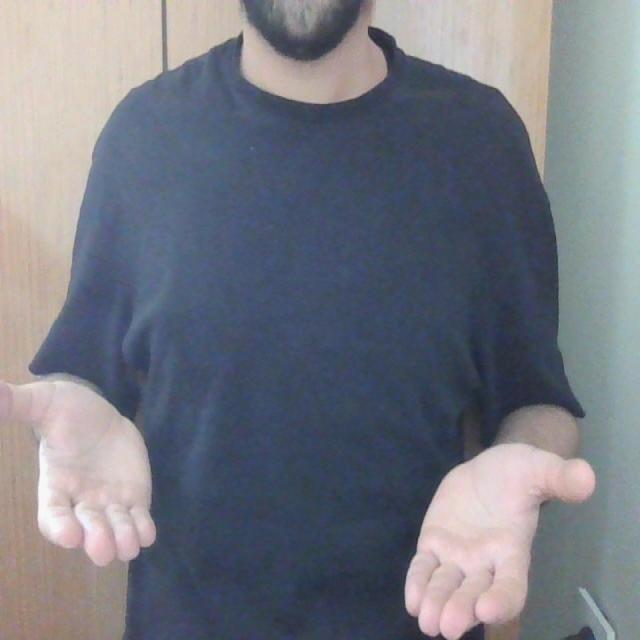Evet: (2, 376, 600, 640)
